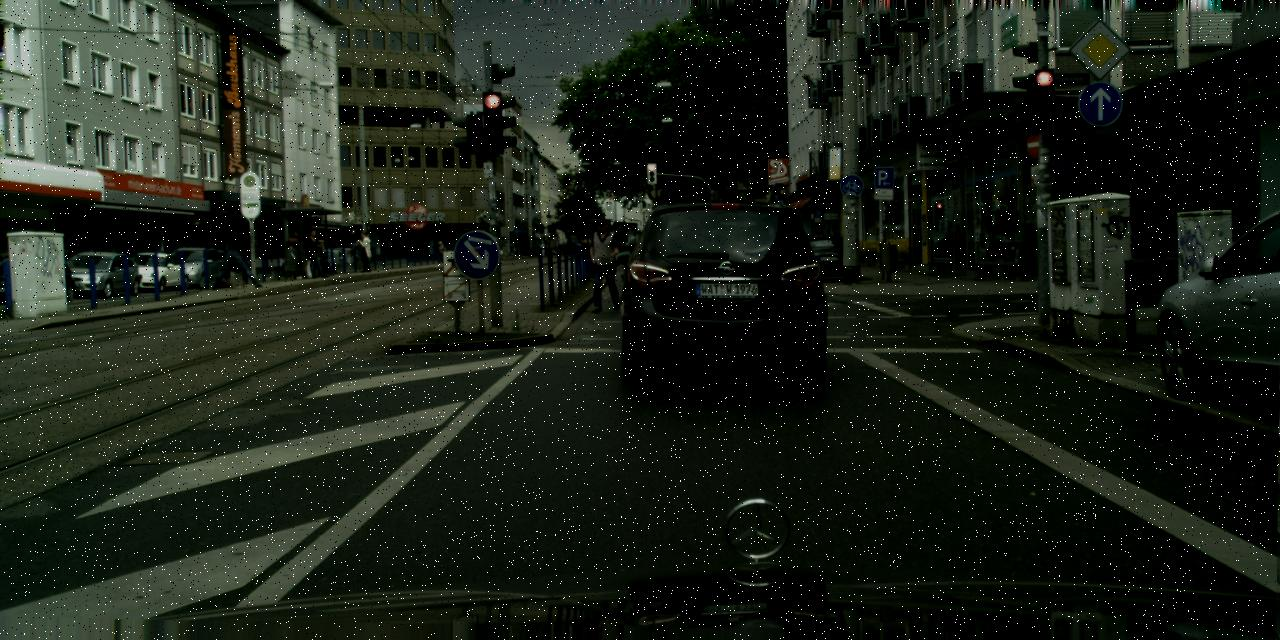ped: (585, 217, 624, 312), (306, 228, 326, 278), (299, 233, 317, 278), (357, 230, 372, 272), (436, 240, 446, 262)
